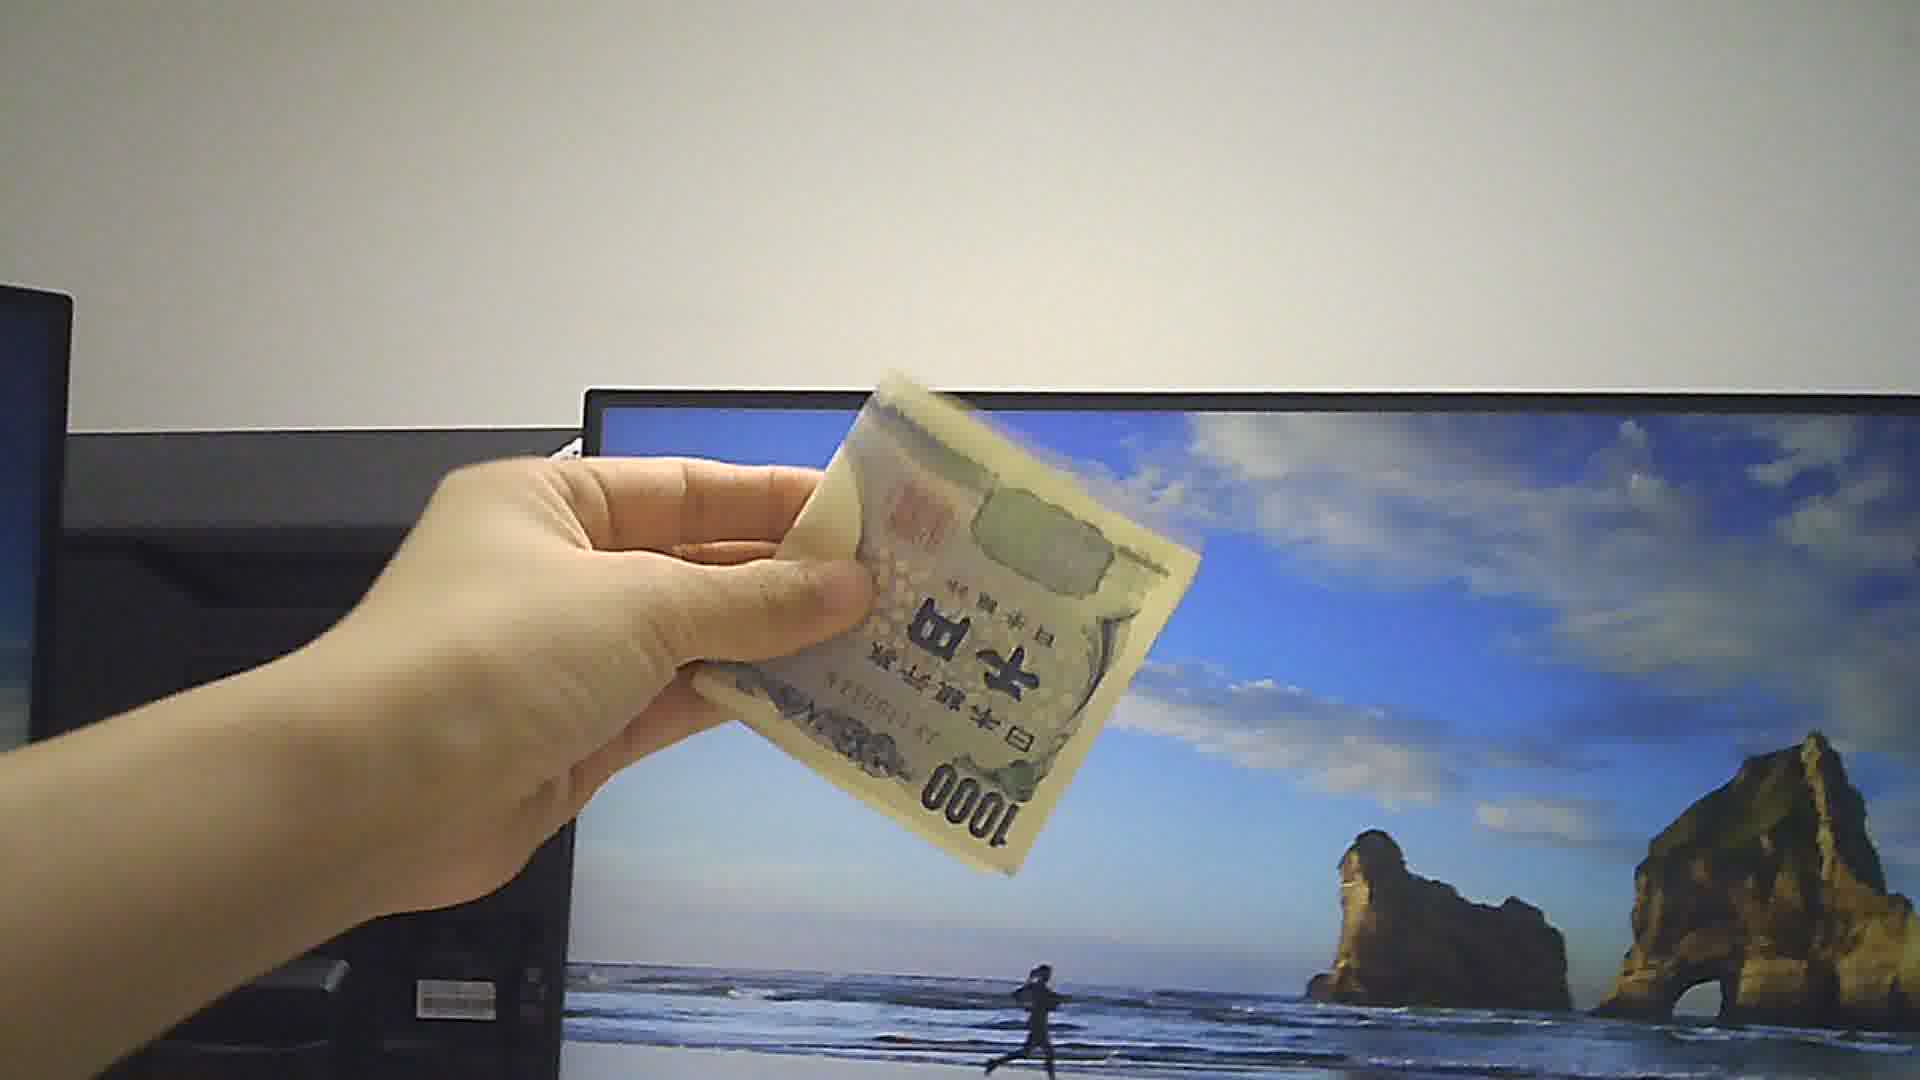1,000 Yen: (702, 353, 1191, 877)
